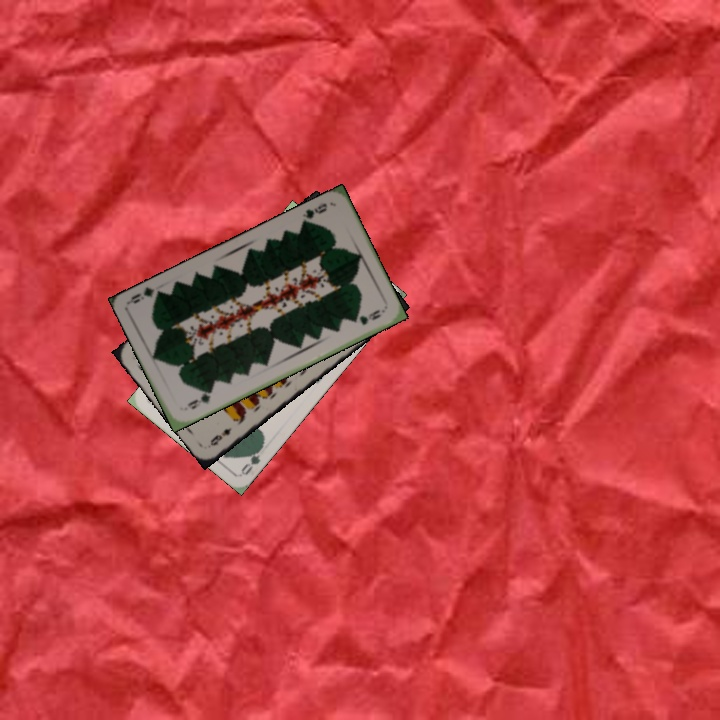E9: (206, 423, 235, 449)
G9: (183, 387, 215, 412), (298, 199, 330, 221)
GO: (237, 440, 266, 478)
